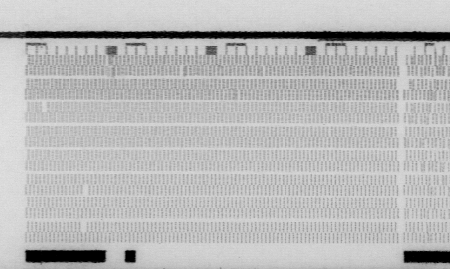Broken hole: (78, 220, 91, 234), (39, 100, 51, 114), (80, 184, 91, 196)
Oblique printing: (415, 53, 450, 90), (426, 183, 450, 234), (102, 54, 119, 80), (414, 161, 450, 172), (230, 88, 244, 101), (176, 65, 189, 78), (405, 101, 417, 115), (257, 65, 269, 78)
